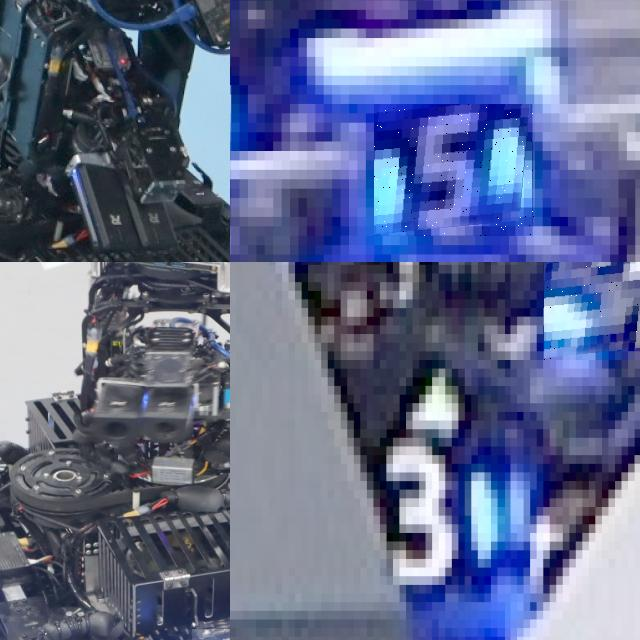B3: (360, 438, 491, 576), (543, 262, 640, 360)
B5: (374, 104, 534, 236)
